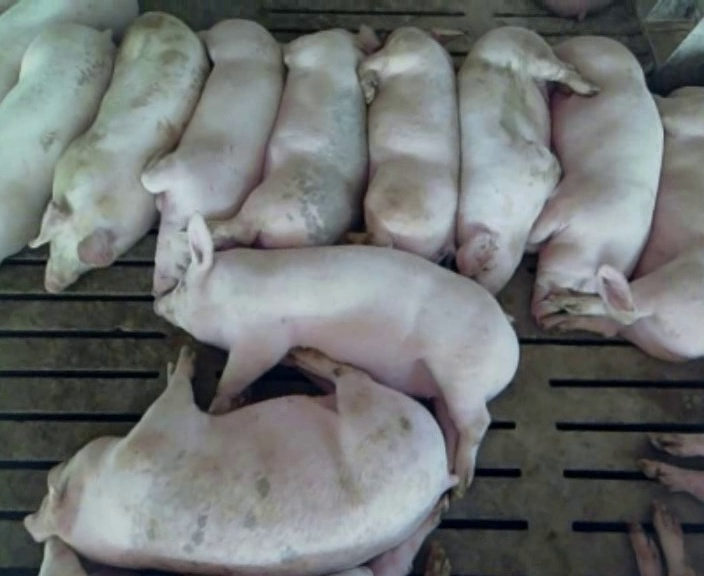pig: (154, 213, 518, 492), (26, 347, 454, 573), (32, 13, 208, 291), (141, 20, 282, 295), (529, 37, 662, 325), (456, 27, 597, 293), (210, 25, 378, 247), (0, 24, 114, 261), (347, 27, 458, 261), (0, 1, 137, 100)
